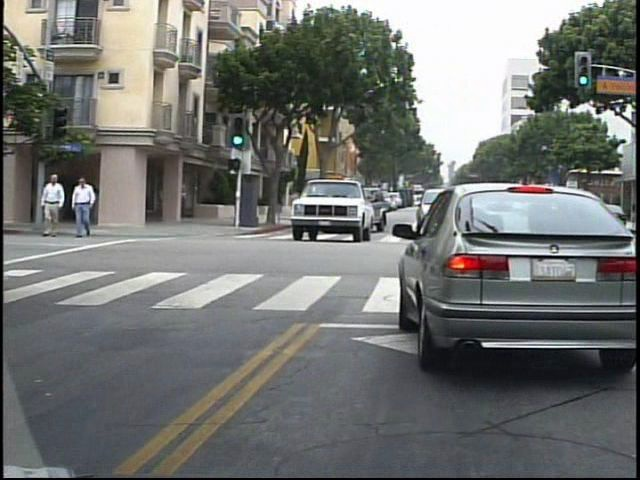person: (46, 170, 76, 242), (76, 174, 104, 241)
